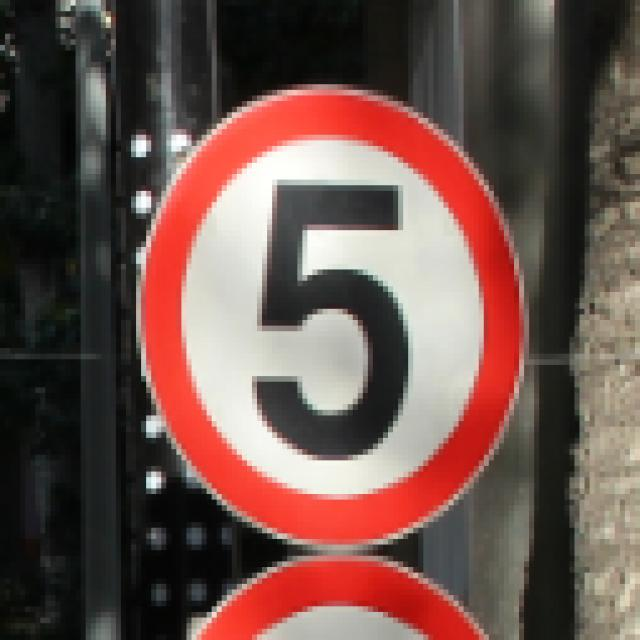Speed: (125, 75, 549, 558)
